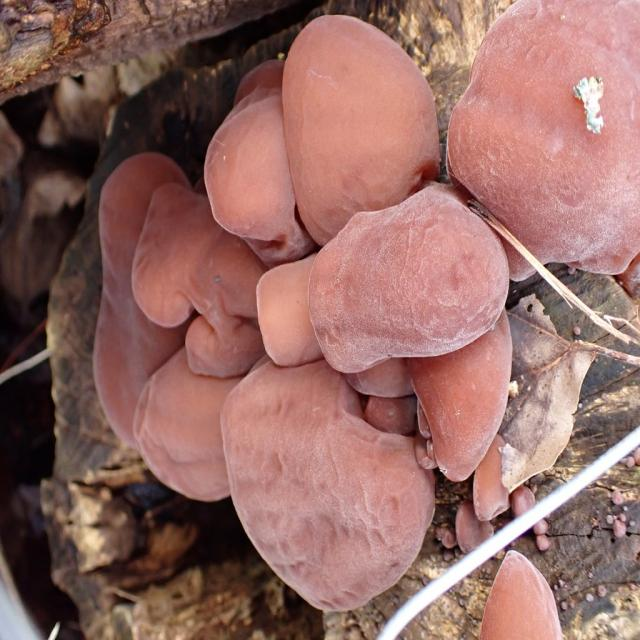Matang: (442, 0, 640, 288), (222, 358, 433, 619), (444, 0, 639, 282), (282, 7, 457, 248), (306, 178, 511, 372), (88, 149, 201, 456), (127, 180, 277, 379), (202, 56, 316, 262), (408, 302, 515, 492), (130, 342, 250, 510), (251, 246, 330, 372), (476, 547, 565, 640), (468, 431, 512, 519), (362, 386, 420, 442), (453, 499, 492, 563), (509, 483, 539, 519)
